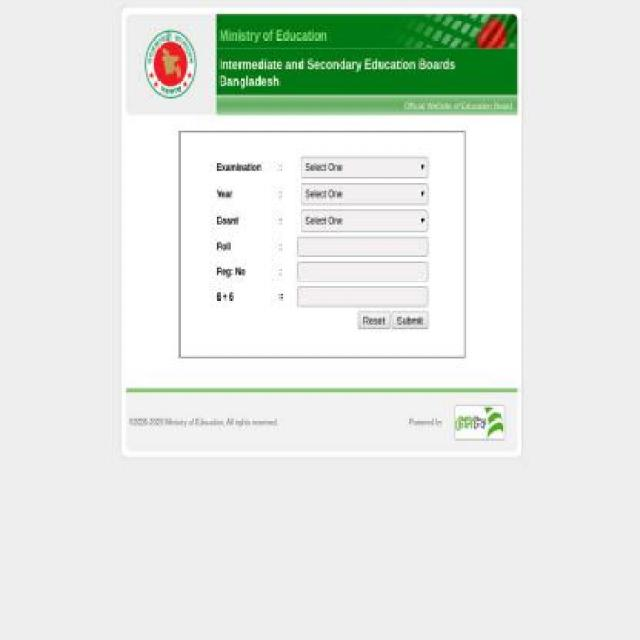field: (300, 182, 428, 205), (297, 235, 428, 257), (297, 285, 428, 307), (300, 156, 428, 178), (300, 210, 428, 232), (297, 261, 428, 282), (392, 311, 428, 329), (358, 311, 390, 329)
